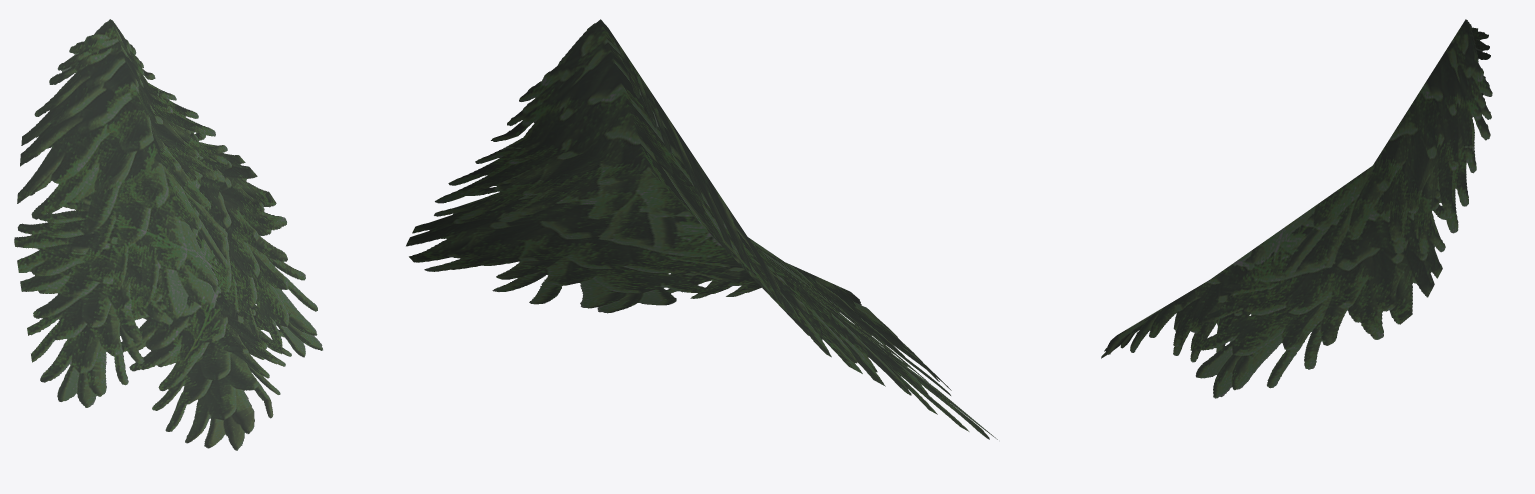
Rendered from tree_pine_foilagemesh.fbx.
3 renders of one model, left to right at view 1: azimuth 30°, elevation 25°; view 2: azimuth 150°, elevation 25°; view 3: azimuth 270°, elevation 25°, orthographic. The views are drawn at different scales.
Parts seen in each view (by area): view 1: pinetree_leaf.001; view 2: pinetree_leaf.001; view 3: pinetree_leaf.001.
Boxes of the visible parts, <box> form: pinetree_leaf.001: <box>14,19,322,450</box>; pinetree_leaf.001: <box>406,19,997,439</box>; pinetree_leaf.001: <box>1101,19,1492,398</box>.
Bounding box in the file's own units: 183 × 184 × 192.
